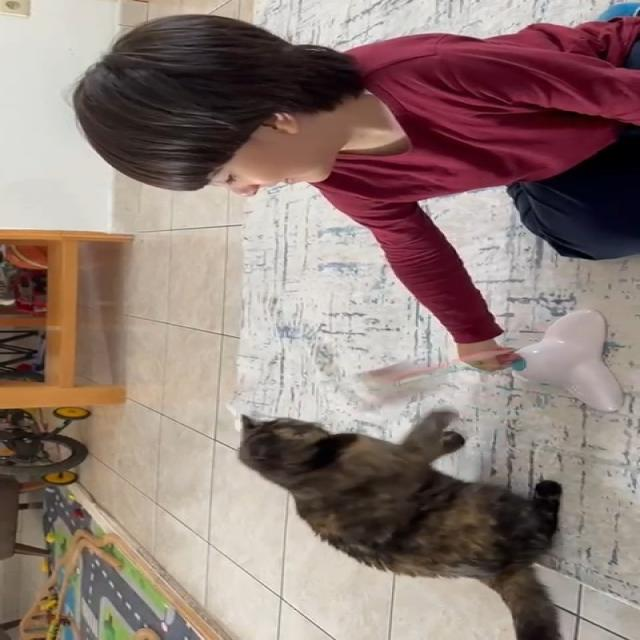authorized: (236, 408, 564, 639)
